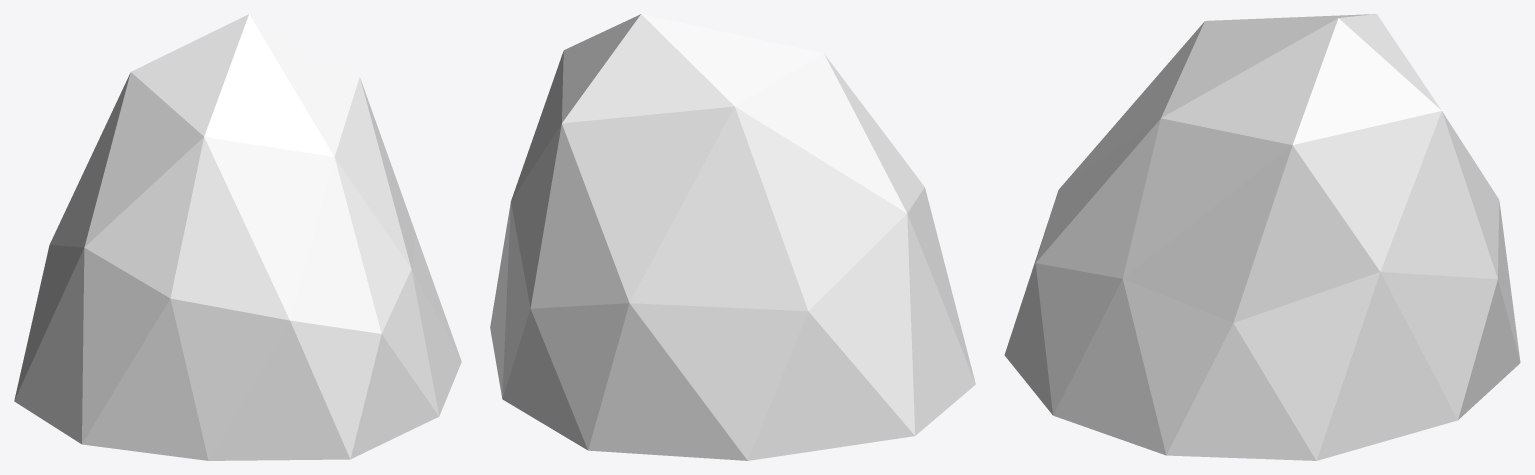
File: QuarryStone(1).fbx
3 views of the same model, side by side, from view 1: azimuth 30°, elevation 25°; view 2: azimuth 150°, elevation 25°; view 3: azimuth 270°, elevation 25° (orthographic). The views are drawn at different scales.
Visible parts, largest first — view 1: QuarryStone(1); view 2: QuarryStone(1); view 3: QuarryStone(1).
Part boxes in pixels (x1,y1,x2,y2): QuarryStone(1): [14, 14, 461, 460]; QuarryStone(1): [490, 14, 975, 460]; QuarryStone(1): [1004, 14, 1520, 460].
Size of the model in its own units: 4.97 by 3.99 by 5.13.
